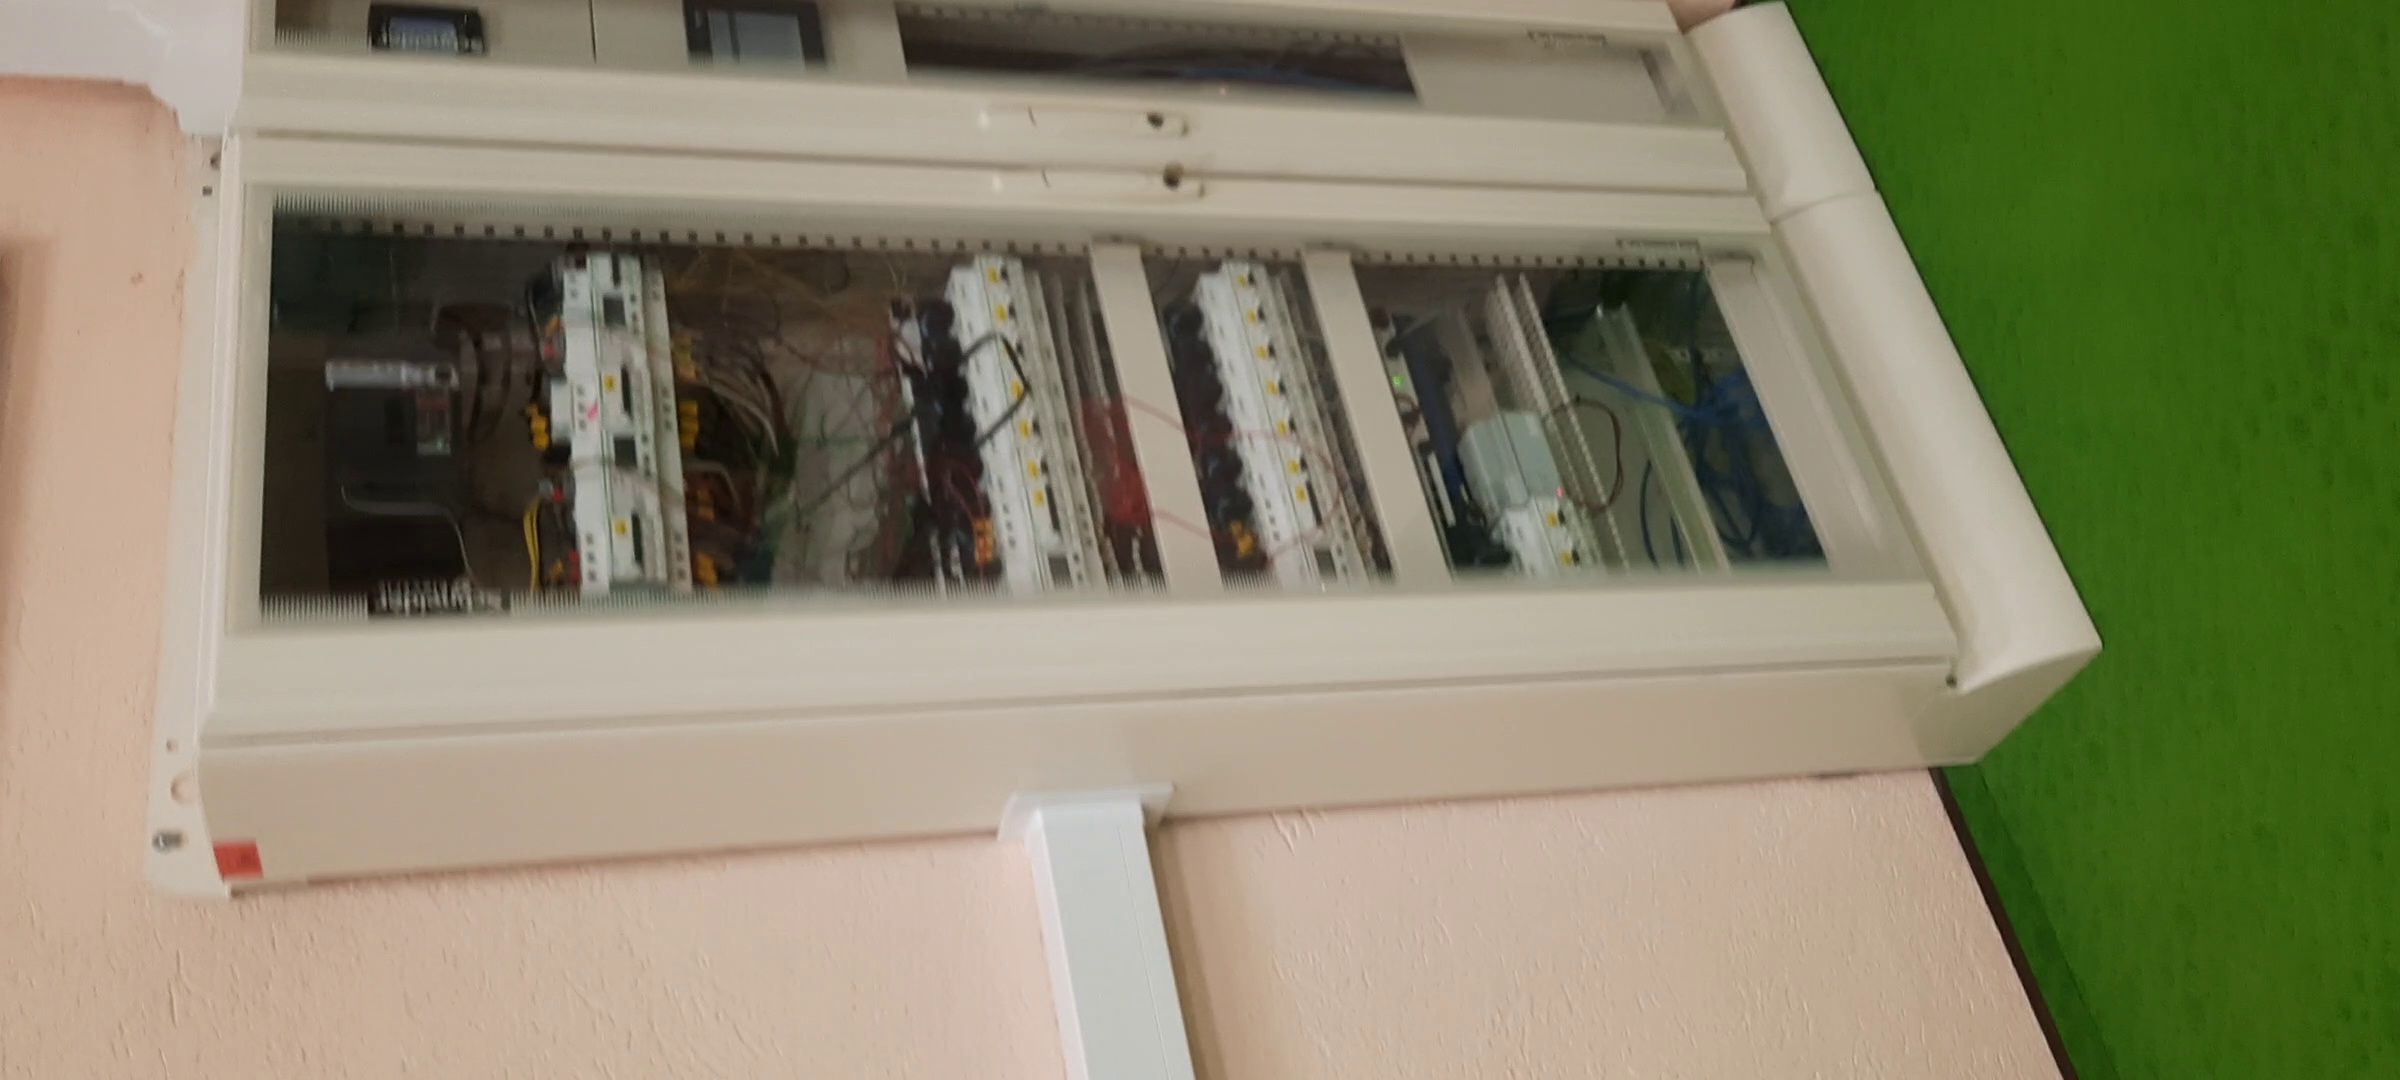stand1: (179, 2, 2017, 889)
